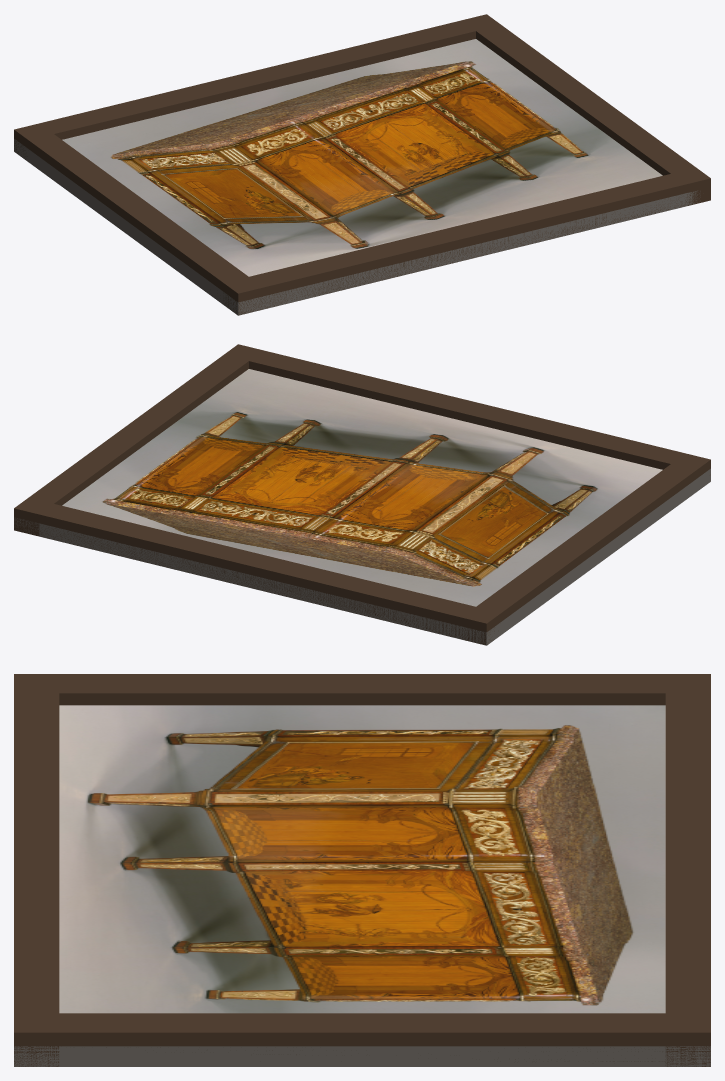
File: framed_artwork.glb
The picture shows the model from 3 angles, top to bottom: view 1: azimuth 30°, elevation 25°; view 2: azimuth 150°, elevation 25°; view 3: azimuth 270°, elevation 25°; orthographic projection. The views are drawn at different scales.
Parts seen in each view (by area): view 1: Artwork_Image_Front, Frame_Bottom, Frame_Top, Back_Board, Frame_Left, Frame_Right; view 2: Artwork_Image_Front, Frame_Top, Frame_Bottom, Back_Board, Frame_Left, Frame_Right; view 3: Artwork_Image_Front, Frame_Right, Frame_Left, Frame_Bottom, Frame_Top, Back_Board.
Part boxes in pixels (box(x1,y1,x2,y2)): Artwork_Image_Front: box(62, 39, 662, 276); Frame_Bottom: box(223, 167, 710, 315); Frame_Top: box(14, 14, 500, 159); Back_Board: box(14, 139, 700, 315); Frame_Left: box(14, 123, 263, 315); Frame_Right: box(462, 14, 710, 205); Artwork_Image_Front: box(62, 369, 662, 606); Frame_Top: box(14, 497, 501, 644); Frame_Bottom: box(224, 344, 710, 472); Back_Board: box(14, 468, 710, 645); Frame_Left: box(461, 453, 710, 644); Frame_Right: box(14, 344, 261, 536); Artwork_Image_Front: box(59, 705, 665, 1013); Frame_Right: box(14, 1013, 710, 1064); Frame_Left: box(14, 674, 710, 705); Frame_Bottom: box(14, 674, 59, 1066); Frame_Top: box(665, 674, 710, 1066); Back_Board: box(14, 1046, 710, 1066).
Size of the model in its own units: 2.24 by 0.1 by 1.84.
3 materials, 1 textured.
